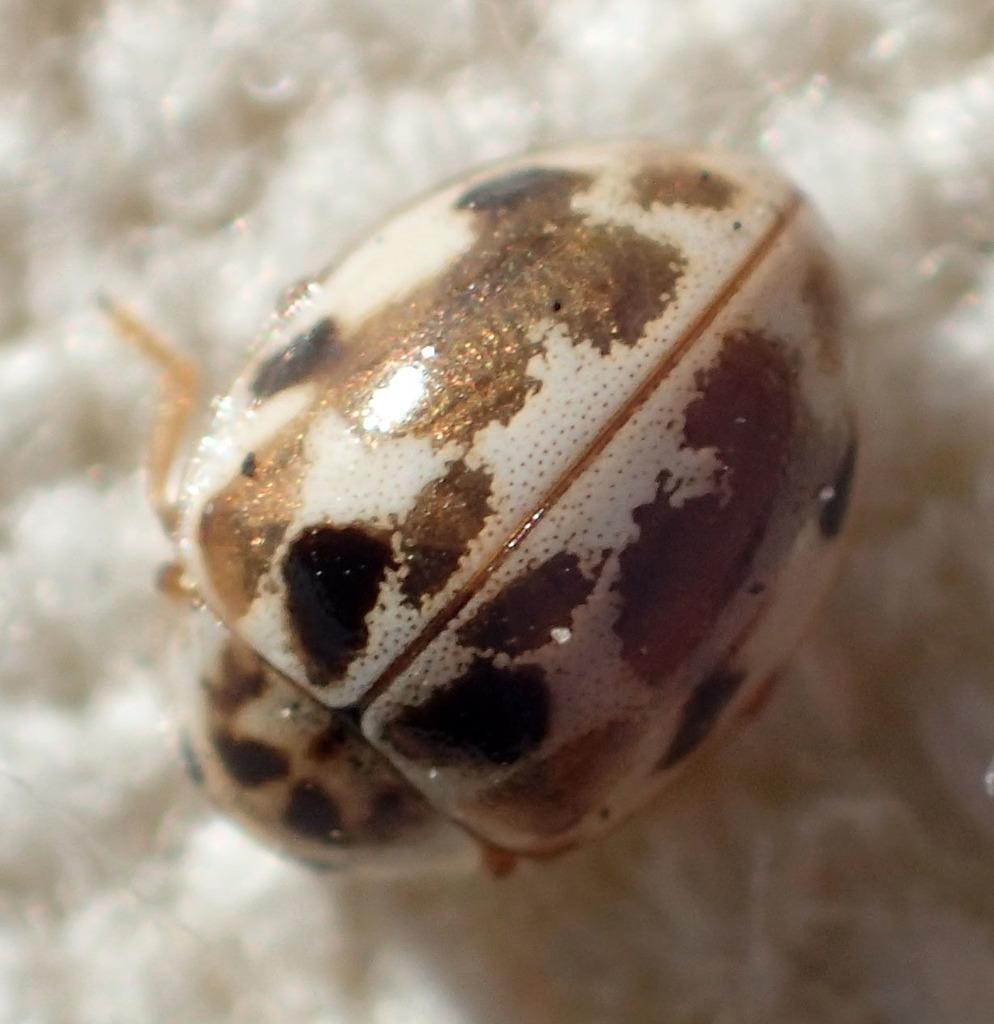ladybug: (96, 131, 884, 896)
